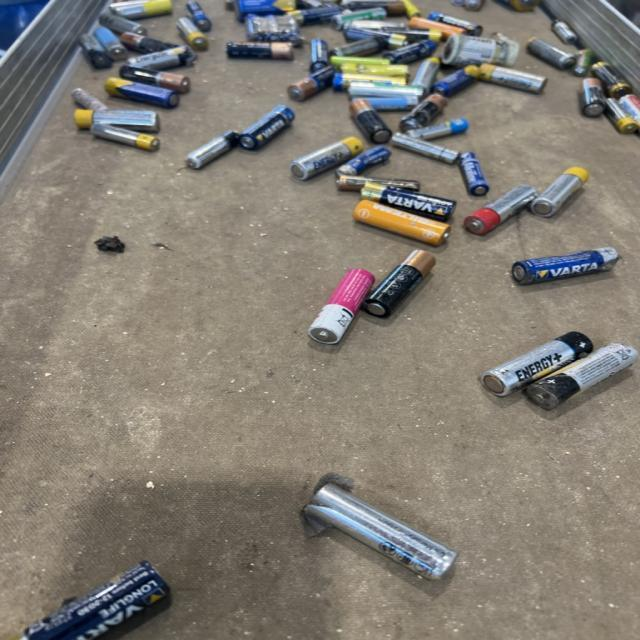AA: (299, 474, 462, 588), (10, 558, 179, 639), (524, 340, 638, 414), (479, 328, 595, 398), (306, 264, 377, 347), (362, 247, 438, 322), (351, 198, 453, 249), (509, 244, 621, 286), (462, 181, 539, 237), (288, 134, 365, 181), (530, 164, 592, 218)
